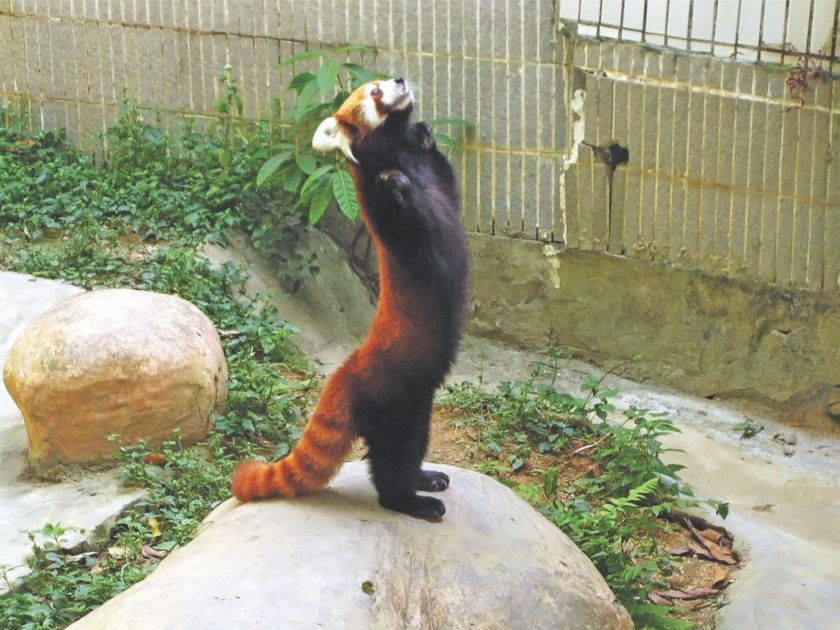red_panda: (239, 78, 509, 522)
